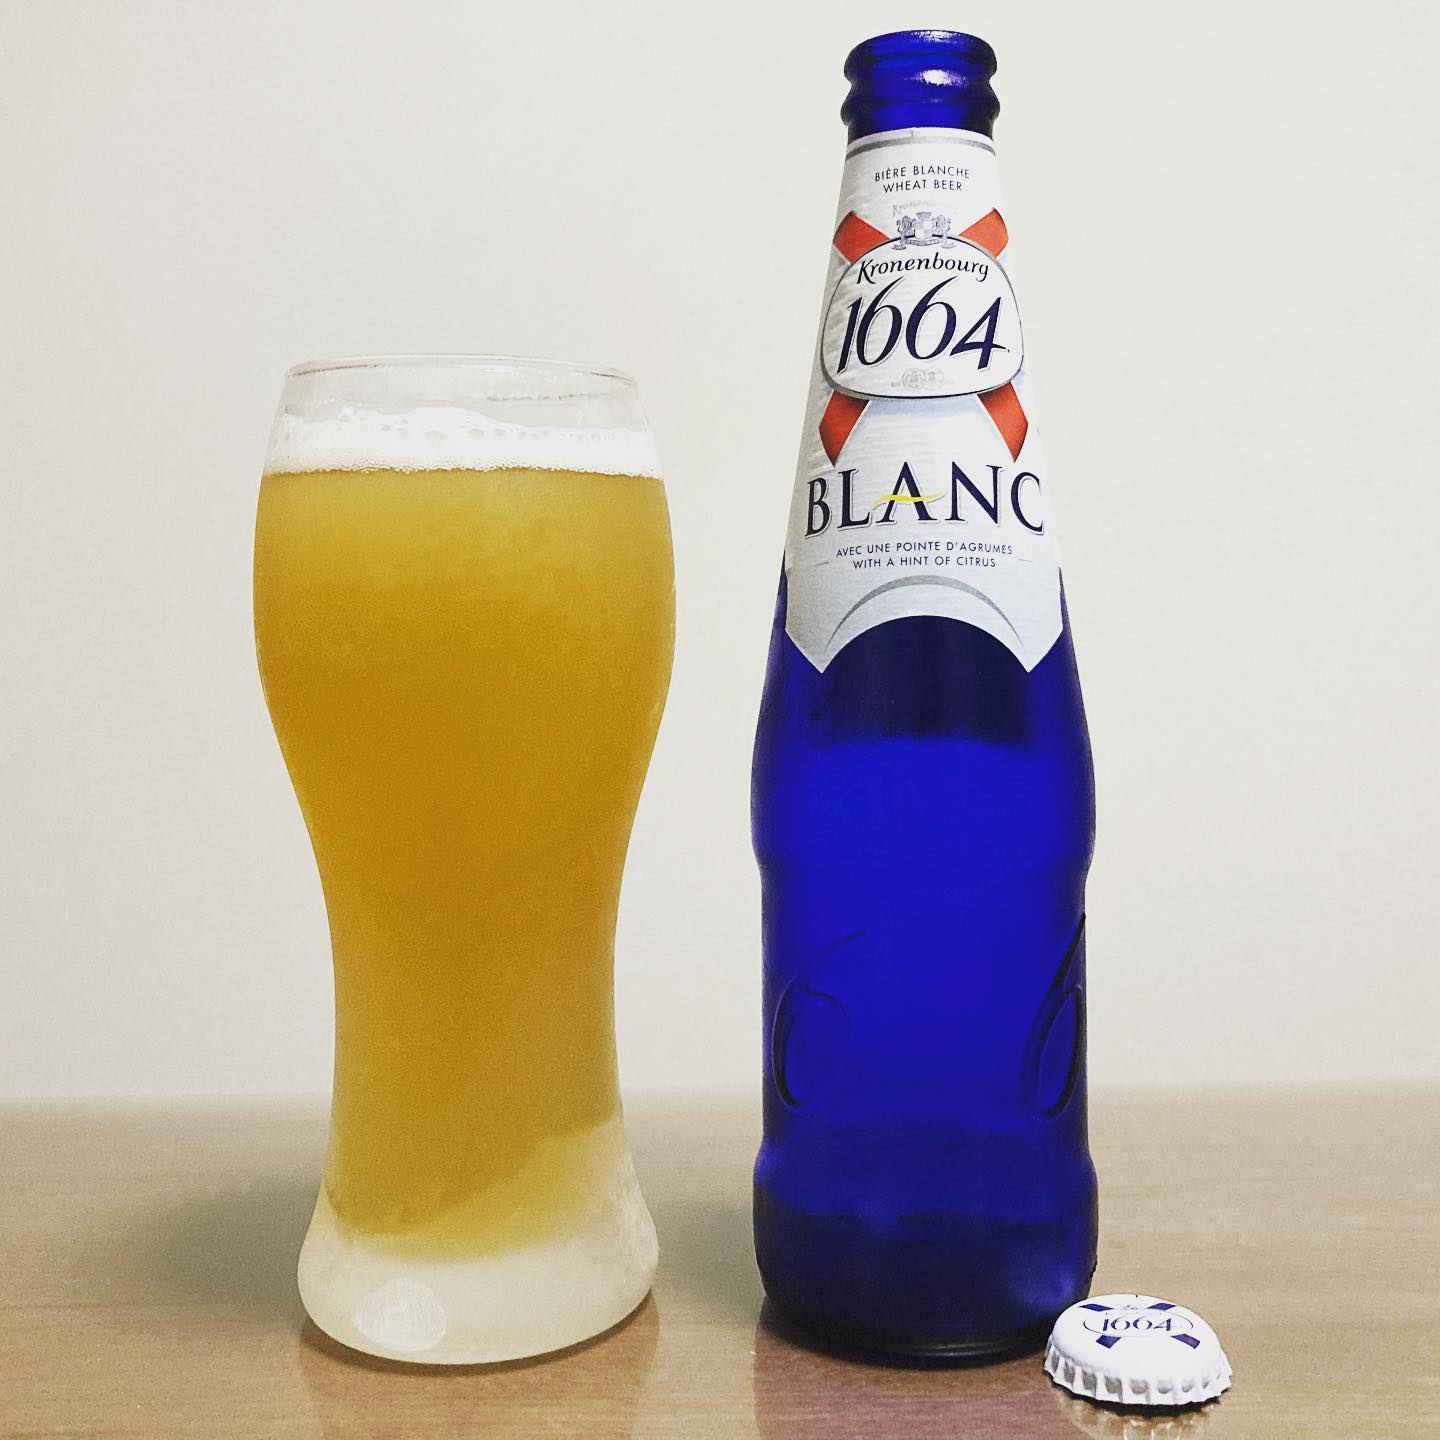alcohol: (740, 18, 1106, 1378), (243, 344, 684, 1381)
